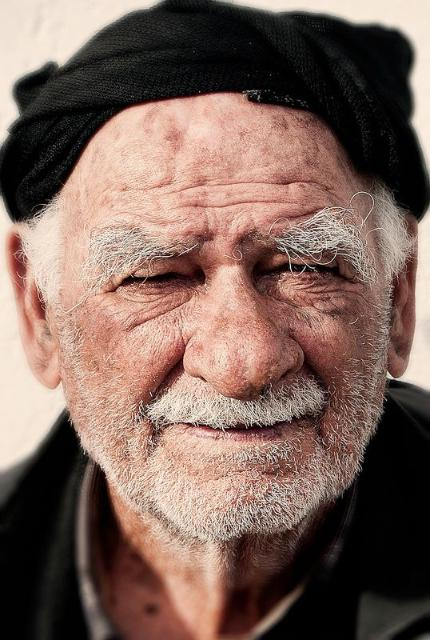crows_feet: (337, 258, 365, 298)
forehead: (180, 177, 324, 209)
gummy_smile: (151, 340, 183, 398), (307, 349, 329, 393)
